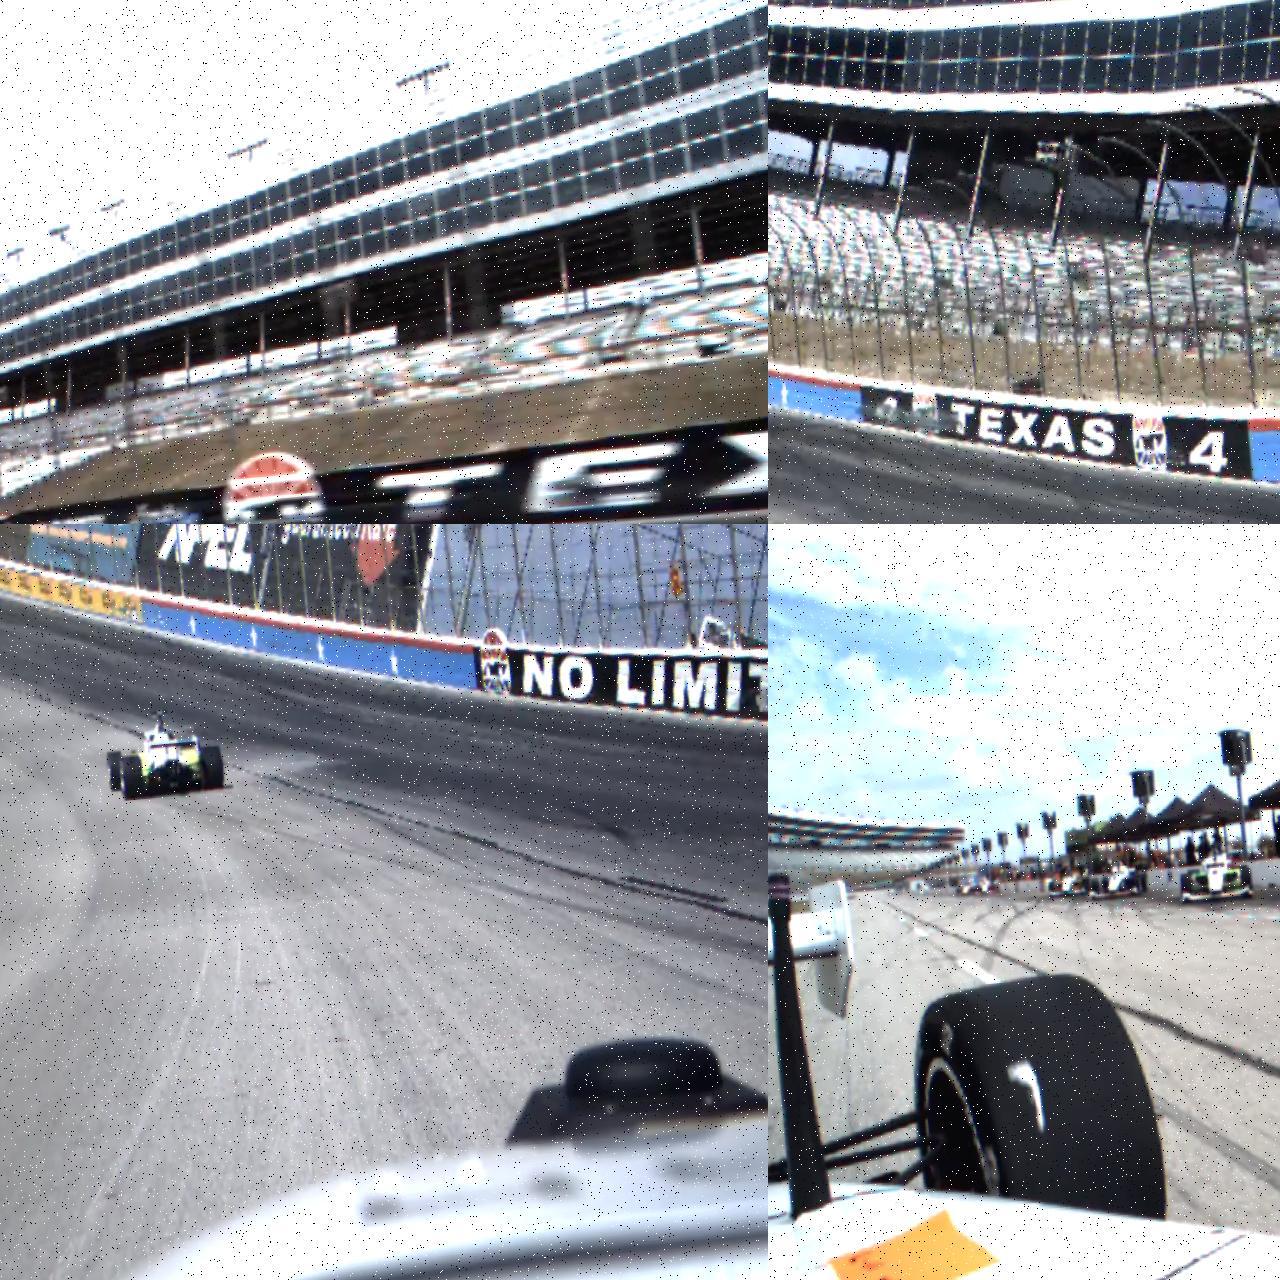AV: (102, 704, 226, 801), (1177, 841, 1255, 907), (1088, 856, 1150, 900), (1044, 864, 1092, 898)
Wheel: (906, 964, 1170, 1242), (200, 745, 226, 791), (120, 754, 145, 800), (106, 750, 125, 793), (1240, 866, 1255, 900), (1180, 874, 1192, 904), (1139, 872, 1148, 894), (1092, 880, 1100, 899), (1132, 878, 1140, 896)
